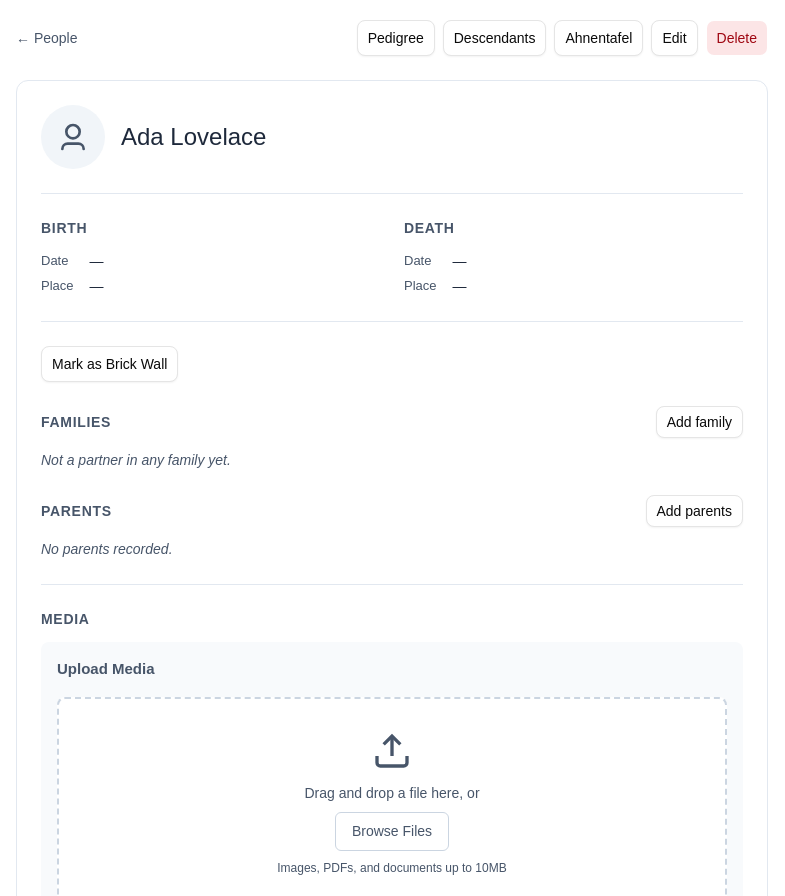
Person detail edit form › leaves edit mode on Escape once the discard is confirmed
This screenshot has width=785, height=896.
Click the button "Edit" at [674, 38], box x1=651 y1=20 x2=698 y2=56
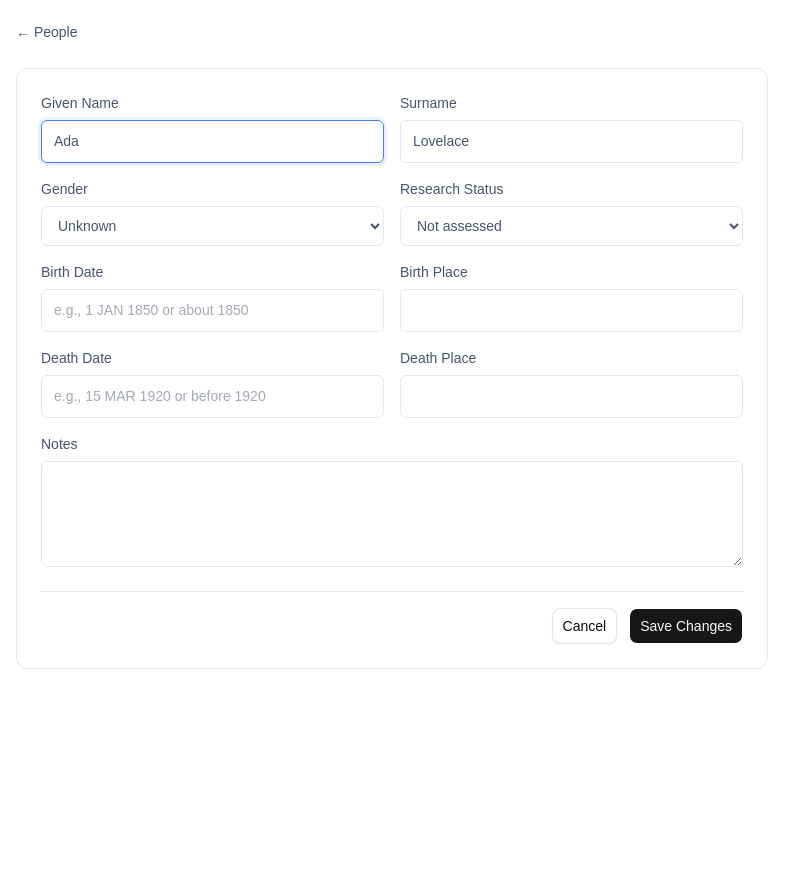
Replace the text in the field labelled "Given Name" with "Augusta" at [212, 142], box x1=41 y1=120 x2=384 y2=163
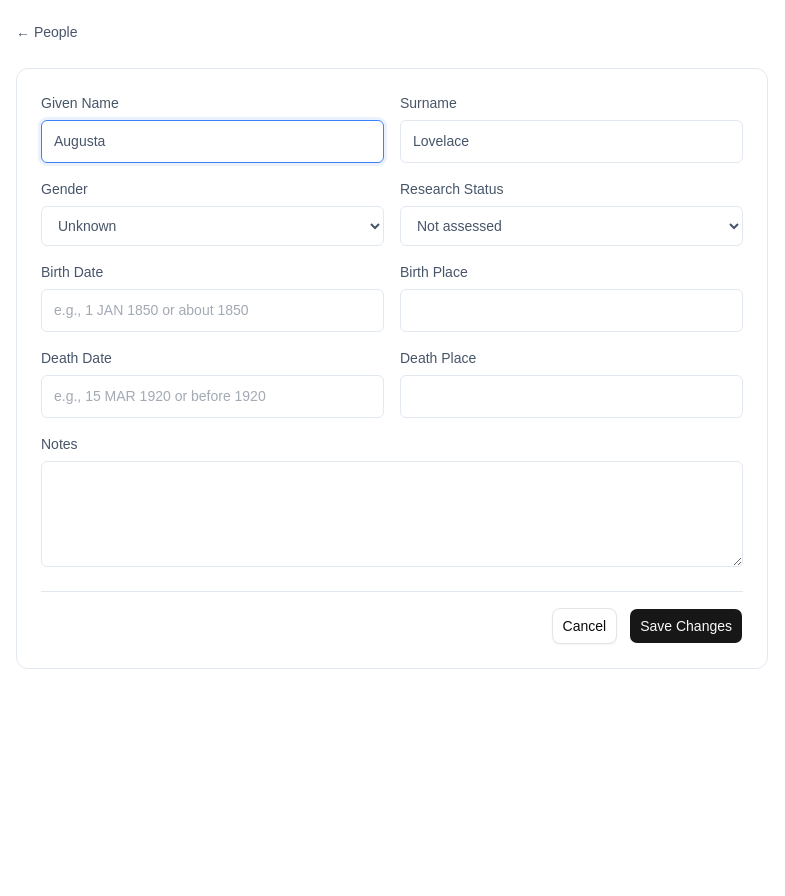
Press Escape in the field labelled "Given Name", box x1=41 y1=120 x2=384 y2=163
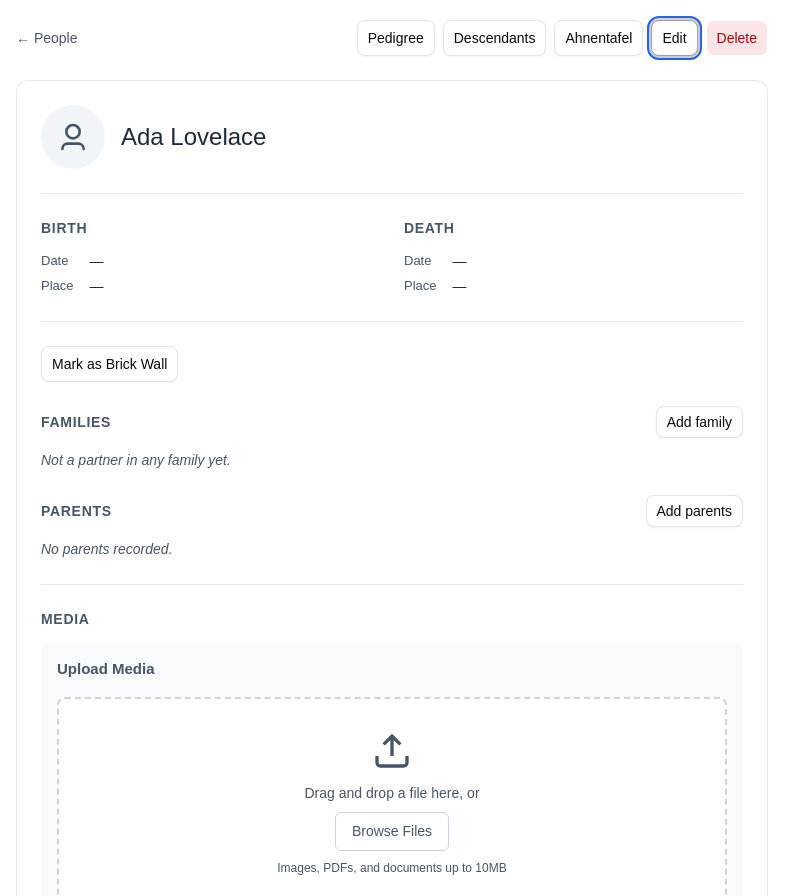
Expected: the label labelled "Given Name" is gone
